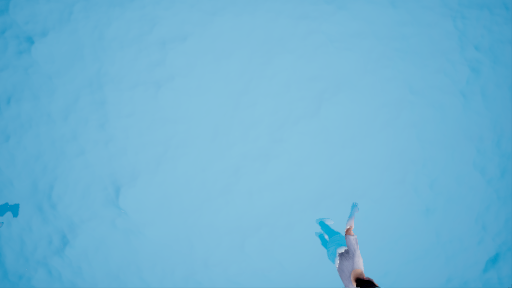person: (303, 208, 378, 288)
